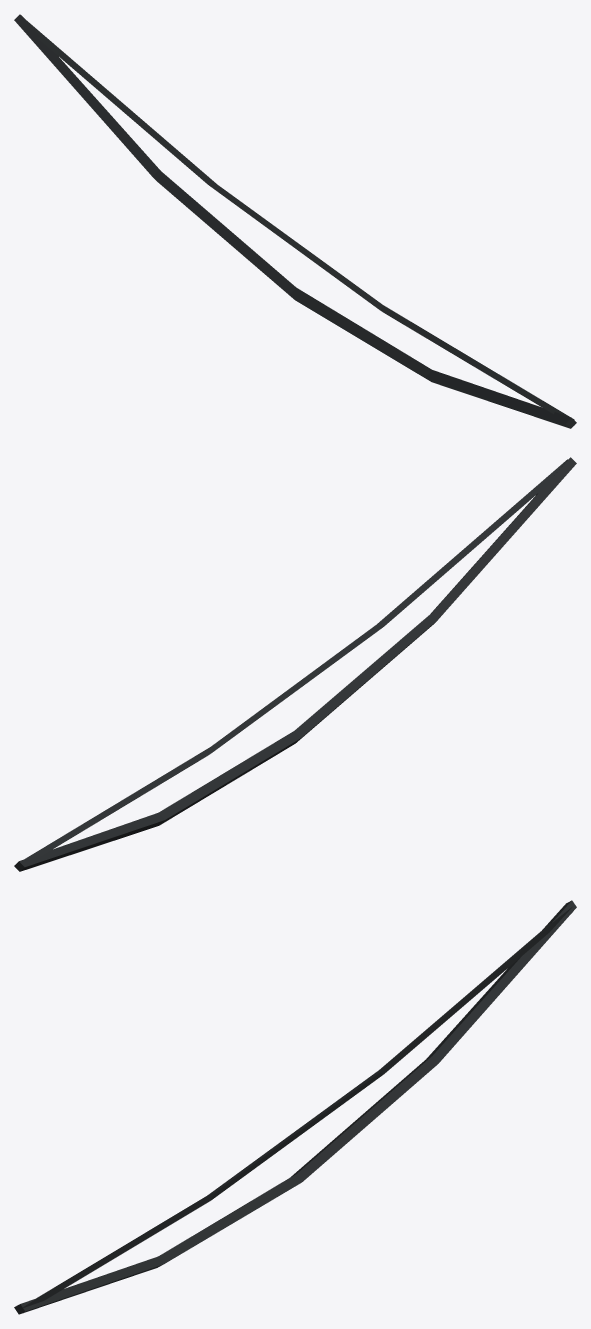
File: SM_Prop_Powerline_03.glb
The picture shows the model from 3 angles, top to bottom: view 1: azimuth 30°, elevation 25°; view 2: azimuth 150°, elevation 25°; view 3: azimuth 330°, elevation 25°; orthographic projection.
Visible parts, largest first — view 1: SM_Prop_Powerline_03; view 2: SM_Prop_Powerline_03; view 3: SM_Prop_Powerline_03.
Boxes of the visible parts, left/top/right/bottom form: SM_Prop_Powerline_03: left=14, top=14, right=576, bottom=428; SM_Prop_Powerline_03: left=14, top=457, right=576, bottom=871; SM_Prop_Powerline_03: left=14, top=900, right=576, bottom=1314.
Size of the model in its own units: 0.1053 by 0.6516 by 7.74.
1 material, 1 textured.
